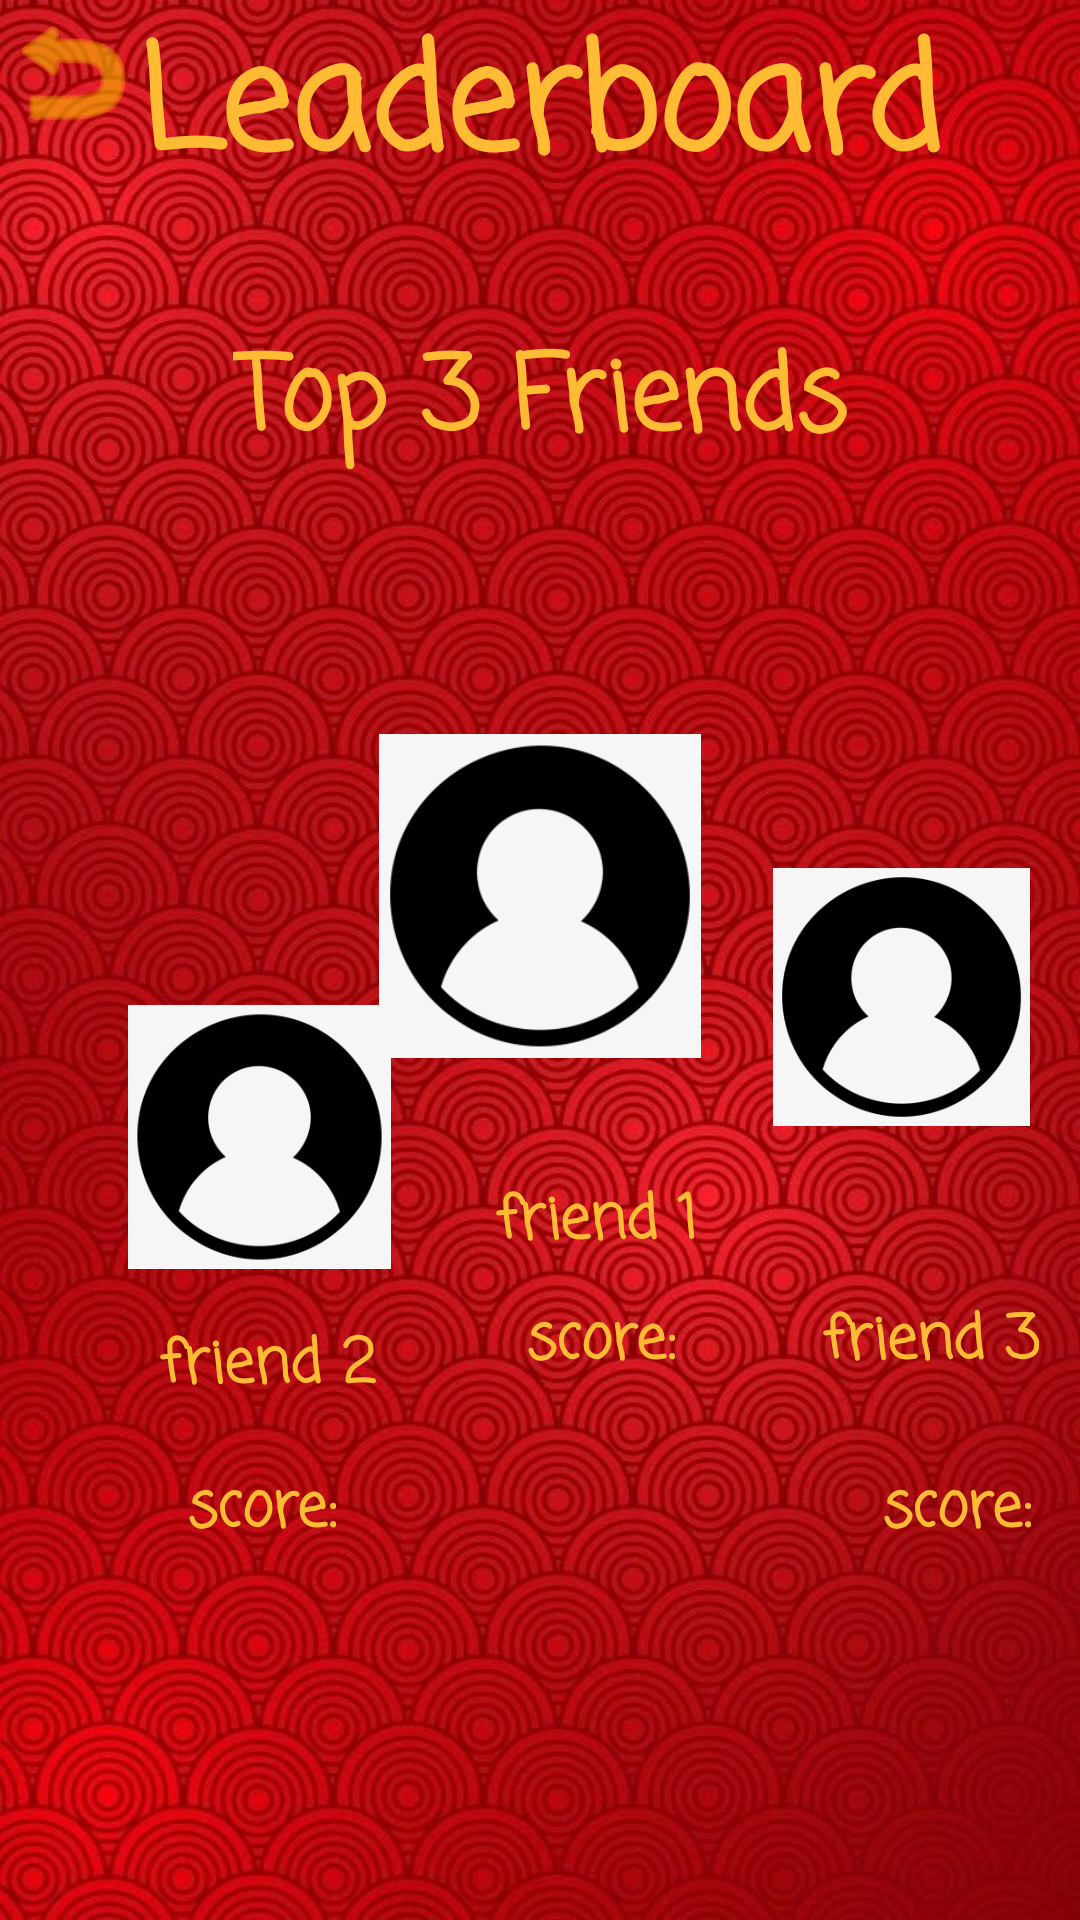

Screen size 1080px x 1920px. Icon name, then its center in pixels as point (x, y):
profile: point (540, 896), point (901, 997), point (259, 1137)
revert: point (72, 72)
